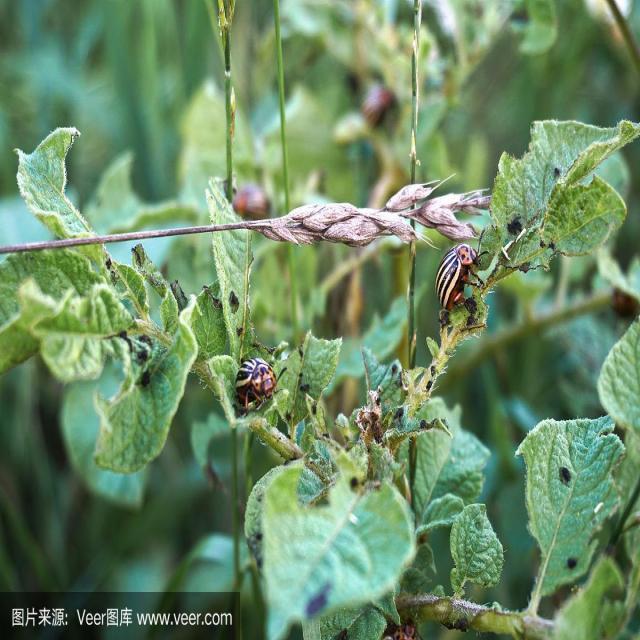ShuCaiHuaBanChong-Grown-: (440, 230, 485, 318), (235, 348, 287, 409)
